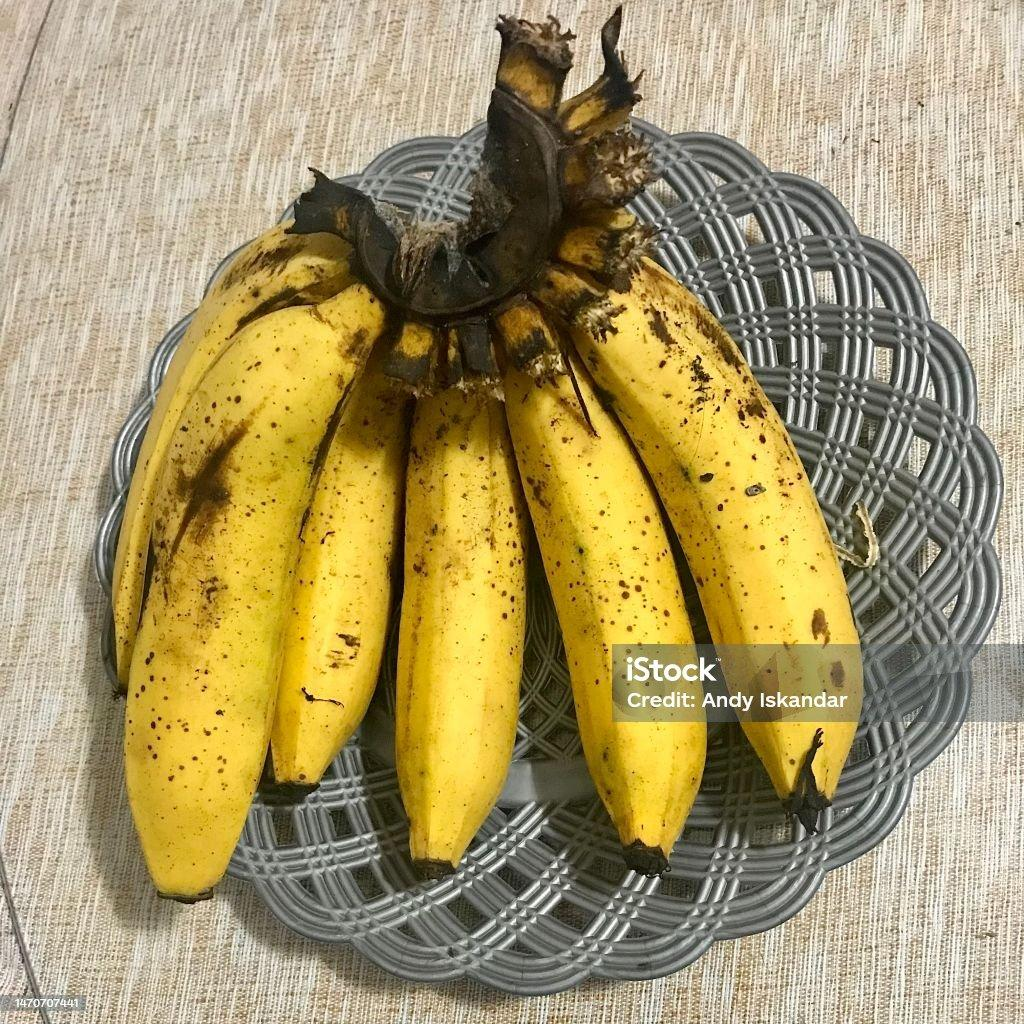buah_sayur_vitA: (161, 422, 241, 831), (419, 404, 496, 800), (584, 386, 674, 650), (301, 421, 382, 693)
